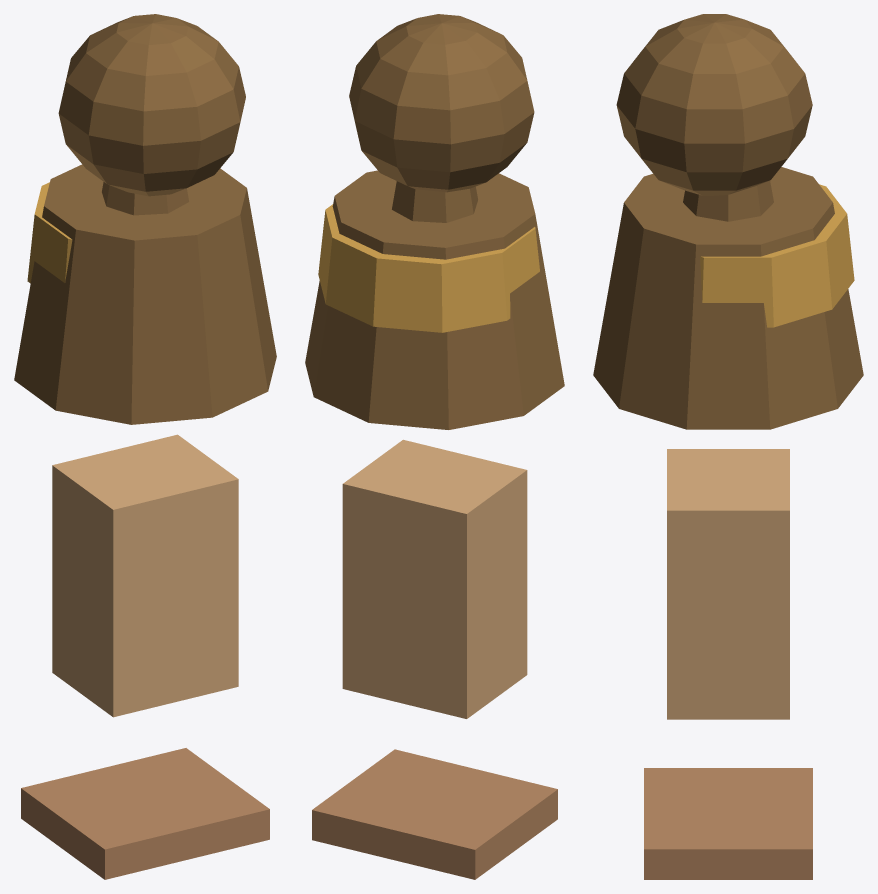
File: dalida_bust.glb
3 views of the same model, side by side, from view 1: azimuth 30°, elevation 25°; view 2: azimuth 150°, elevation 25°; view 3: azimuth 270°, elevation 25° (orthographic).
Visible parts, largest first — view 1: dalida_bust; view 2: dalida_bust; view 3: dalida_bust.
Boxes of the visible parts, x1=… form: dalida_bust: x1=14, y1=14, x2=276, y2=879; dalida_bust: x1=305, y1=14, x2=564, y2=879; dalida_bust: x1=593, y1=14, x2=863, y2=879.
Bounding box in the file's own units: 0.8369 × 2.93 × 0.88.
